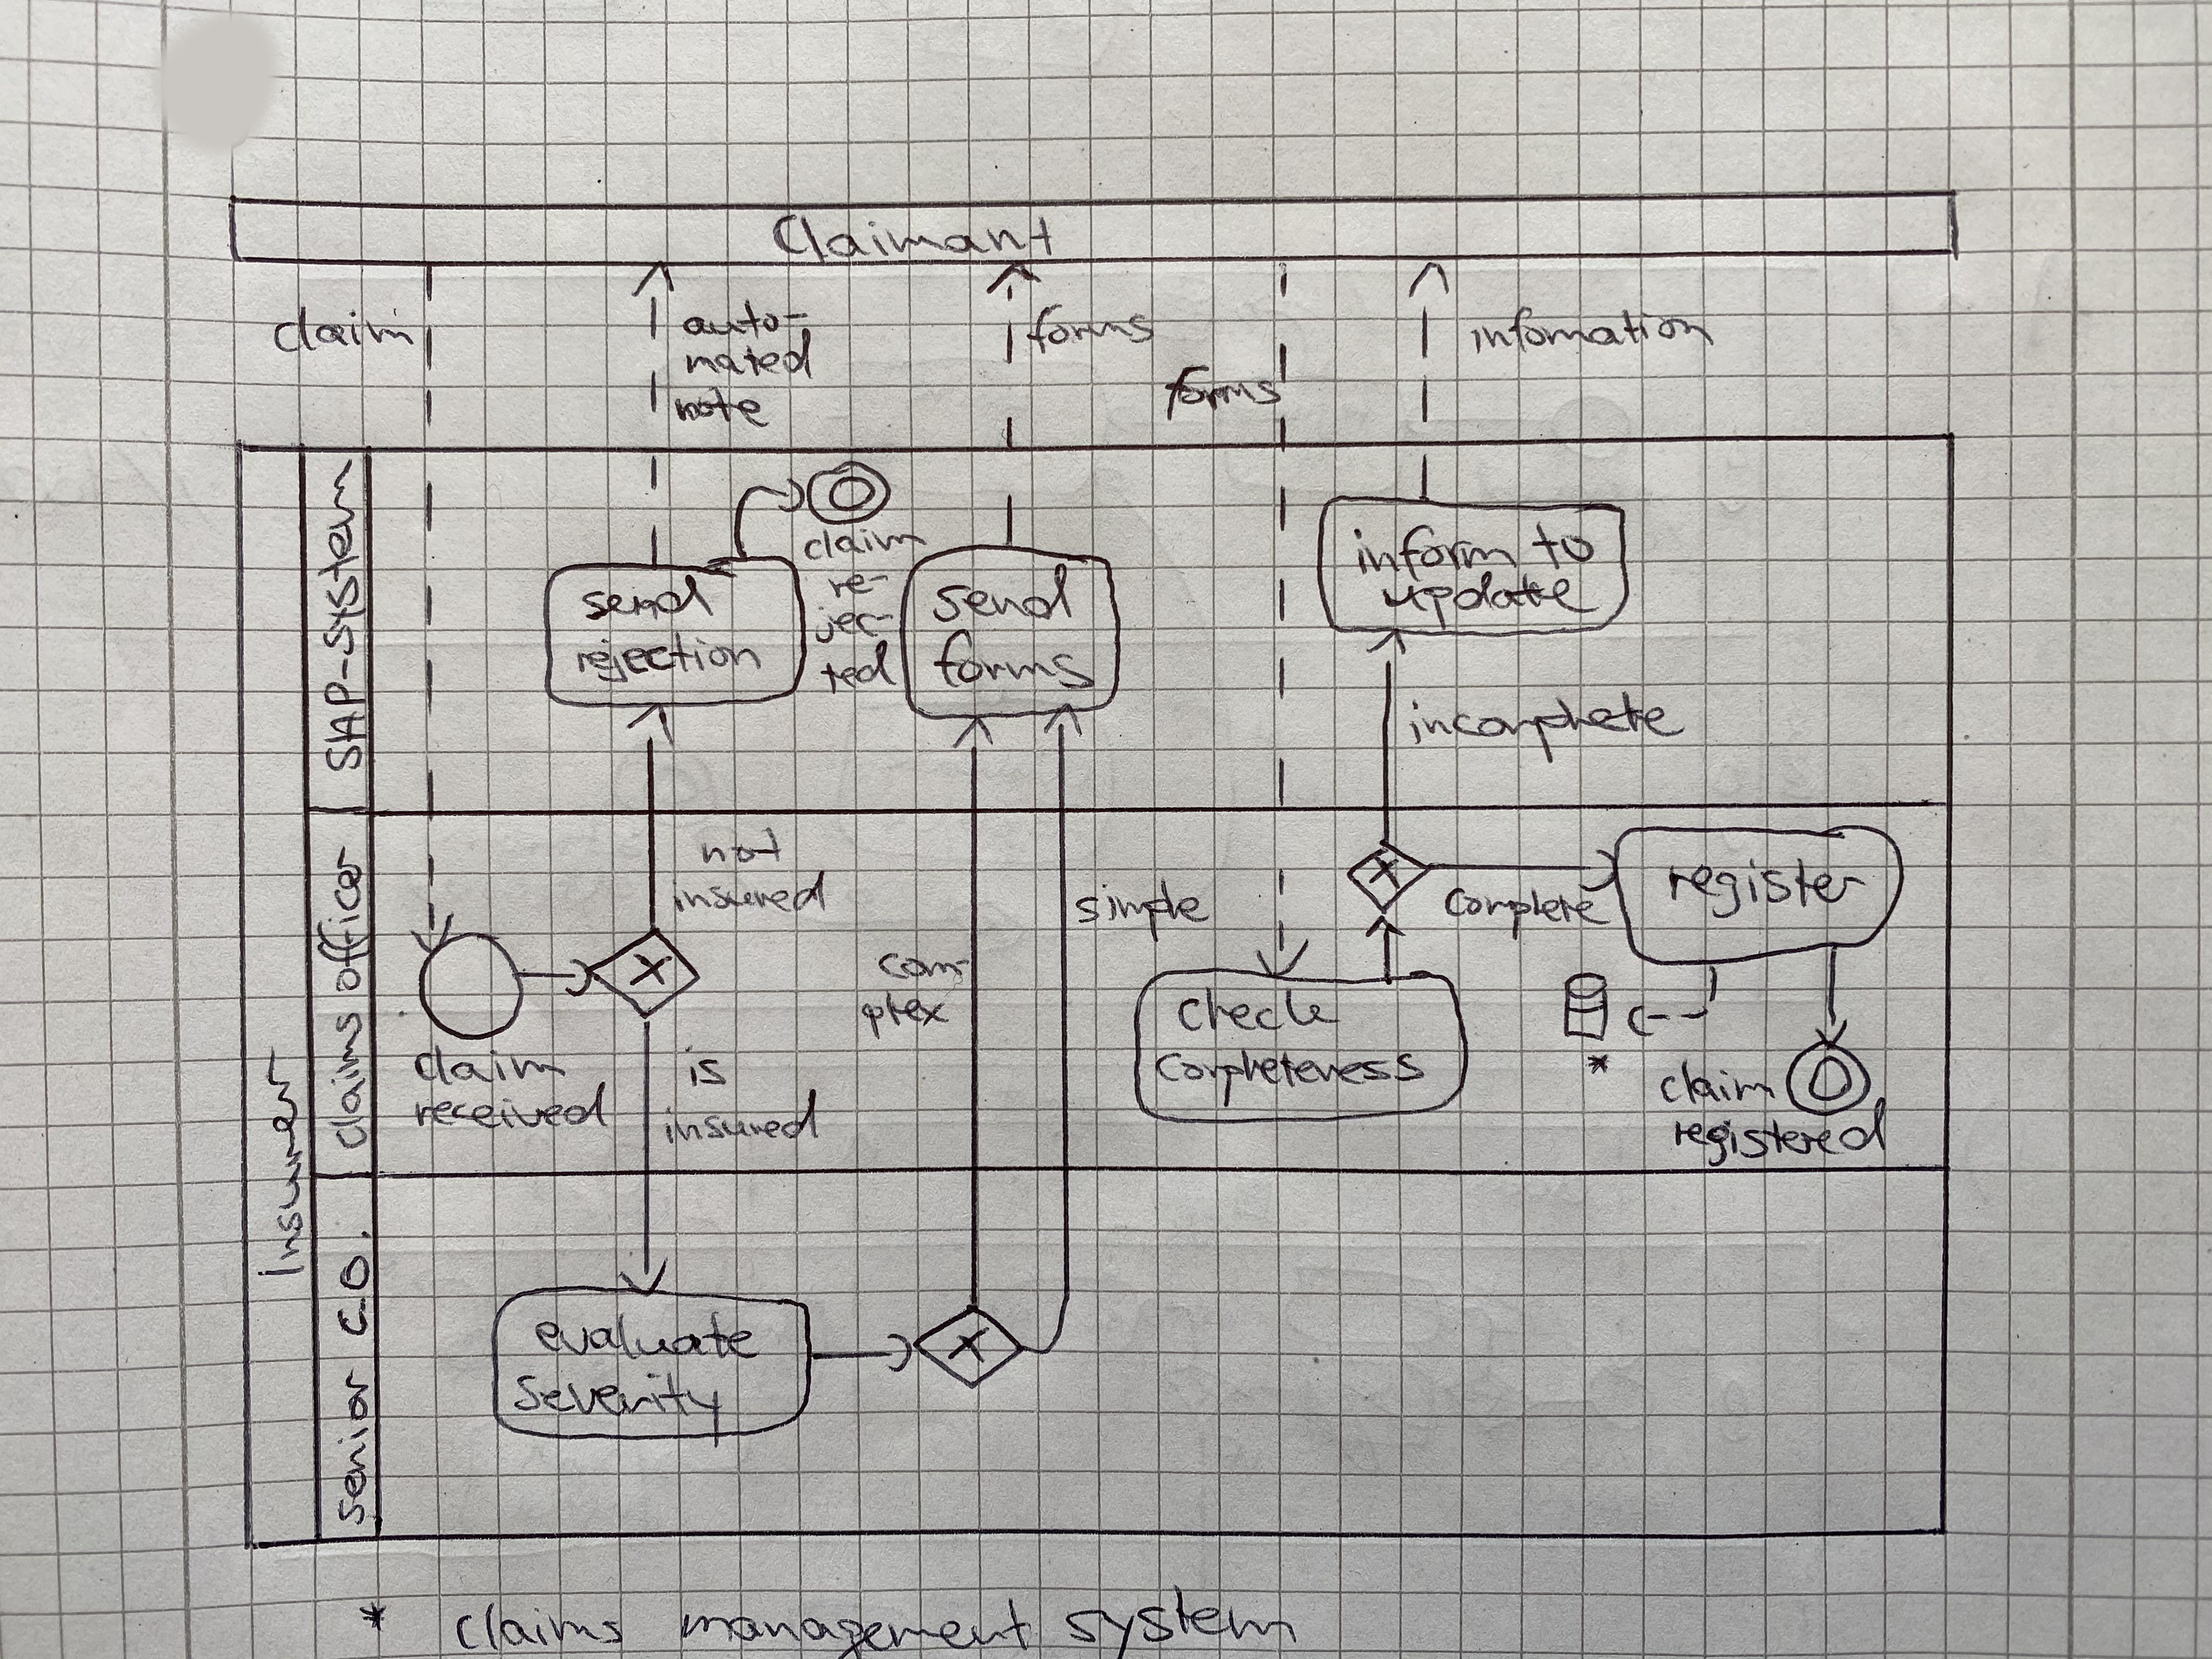*: (1580, 1044, 1615, 1080), (355, 1598, 392, 1631)
C.O.: (322, 1229, 371, 1342)
Claimant: (770, 213, 1055, 260)
Complete: (1442, 882, 1609, 941)
Completeness: (1151, 1046, 1420, 1108)
Insurer: (254, 1044, 305, 1284)
SAP-System: (315, 458, 364, 779)
Senior: (331, 1368, 371, 1527)
Severity: (510, 1370, 735, 1446)
auto-: (681, 298, 813, 342)
check: (1174, 986, 1339, 1039)
claim: (272, 303, 415, 359), (413, 1042, 566, 1087), (1655, 1058, 1778, 1110), (801, 526, 927, 563)
claims: (453, 1601, 624, 1652), (324, 1011, 368, 1154)
com-: (874, 948, 970, 986)
evaluate: (531, 1310, 759, 1364)
forms: (928, 627, 1097, 695), (1024, 295, 1157, 368), (1157, 362, 1280, 423)
incomplete: (1397, 688, 1686, 767)
inform: (1350, 521, 1519, 580)
information: (1468, 303, 1717, 359)
insured: (657, 1087, 820, 1147), (671, 868, 833, 917)
is: (683, 1042, 728, 1091)
jec-: (812, 599, 894, 650)
management: (671, 1595, 1040, 1654)
mated: (679, 331, 817, 382)
not: (698, 824, 782, 870)
note: (672, 389, 768, 429)
offficer: (314, 842, 368, 995)
plex: (860, 992, 949, 1042)
re-: (822, 561, 887, 606)
received: (411, 1082, 613, 1131)
register: (1662, 857, 1865, 920)
registered: (1665, 1100, 1893, 1168)
rejection: (573, 633, 763, 685)
send: (930, 561, 1076, 627), (583, 573, 714, 627)
simple: (1071, 875, 1211, 943)
system: (1061, 1582, 1299, 1659)
ted: (819, 641, 899, 697)
to: (1531, 519, 1597, 572)
update: (1379, 570, 1599, 627)
